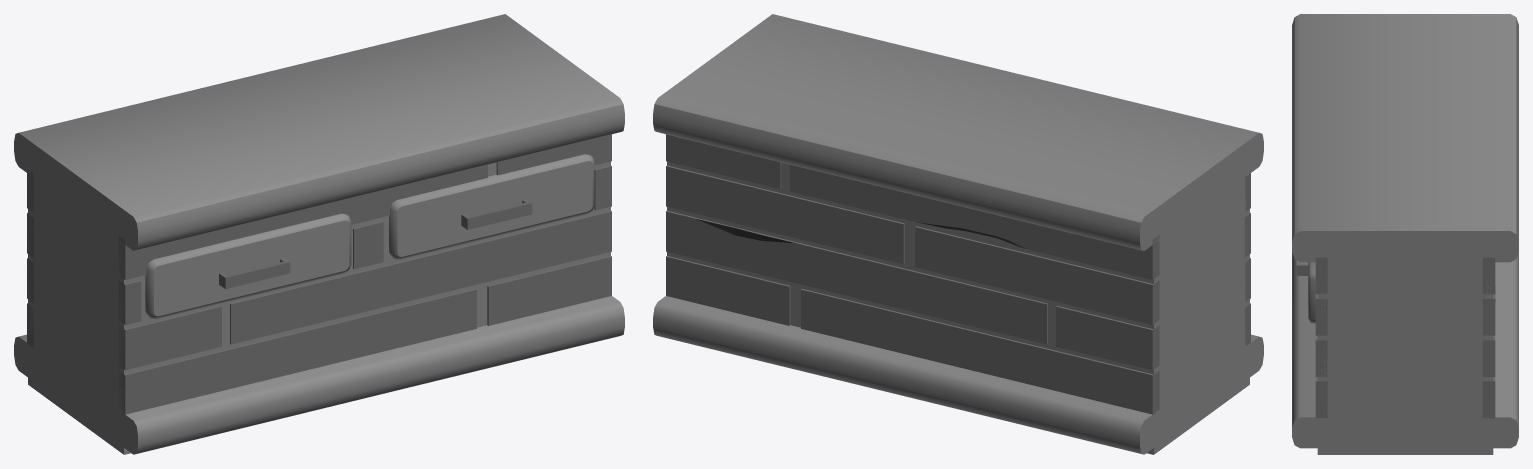
File: space_counter_drawers.glb
3 views of the same model, side by side, from view 1: azimuth 30°, elevation 25°; view 2: azimuth 150°, elevation 25°; view 3: azimuth 270°, elevation 25° (orthographic). The views are drawn at different scales.
Parts seen in each view (by area): view 1: Environment_Counter_Drawers; view 2: Environment_Counter_Drawers; view 3: Environment_Counter_Drawers.
Part boxes in pixels (bbox=[...]): Environment_Counter_Drawers: bbox=[14, 14, 624, 454]; Environment_Counter_Drawers: bbox=[653, 14, 1263, 454]; Environment_Counter_Drawers: bbox=[1292, 14, 1518, 454].
Size of the model in its own units: 4 by 1.92 by 1.77.
1 material, 1 textured.
